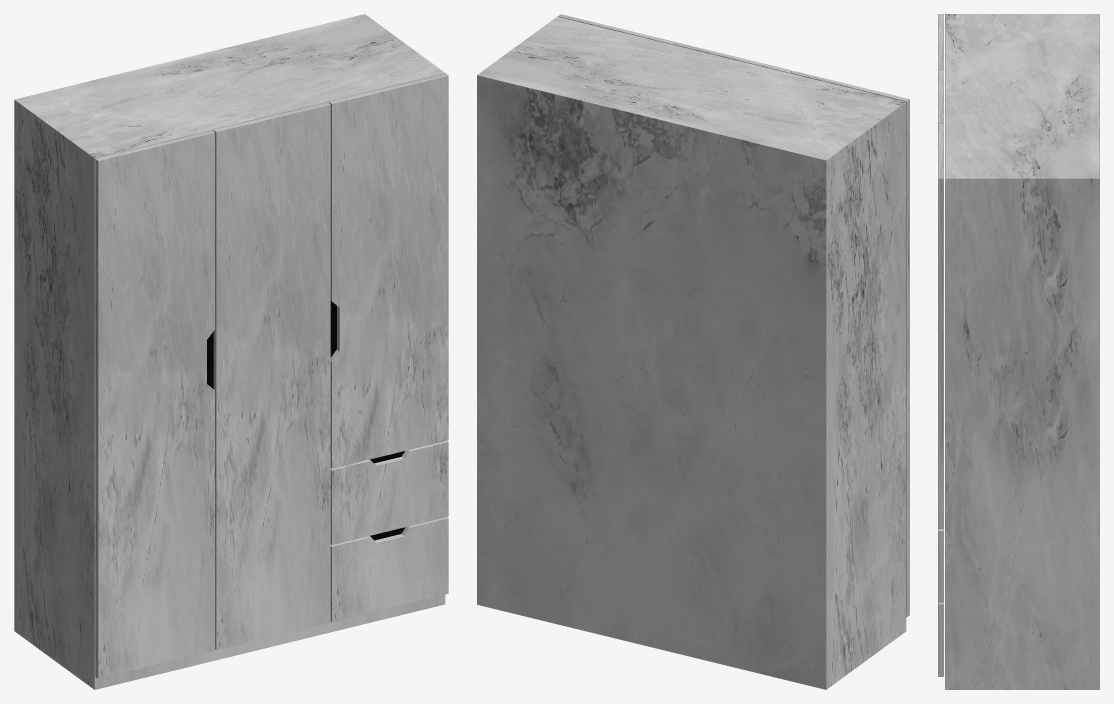
File: Wardrobe.fbx
The picture shows the model from 3 angles, left to right: view 1: azimuth 30°, elevation 25°; view 2: azimuth 150°, elevation 25°; view 3: azimuth 270°, elevation 25°; orthographic projection. The views are drawn at different scales.
Parts seen in each view (by area): view 1: Modern Wardrobe White; view 2: Modern Wardrobe White; view 3: Modern Wardrobe White.
Boxes of the visible parts, box(x1,y1,x2,y2) form: Modern Wardrobe White: box(14, 14, 448, 689); Modern Wardrobe White: box(477, 14, 909, 689); Modern Wardrobe White: box(938, 14, 1099, 689).
Size of the model in its own units: 136 by 197 by 56.44.
2 materials, 1 textured.
